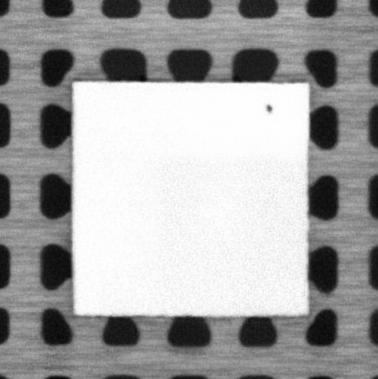DIE_INK: (266, 103, 274, 113)
